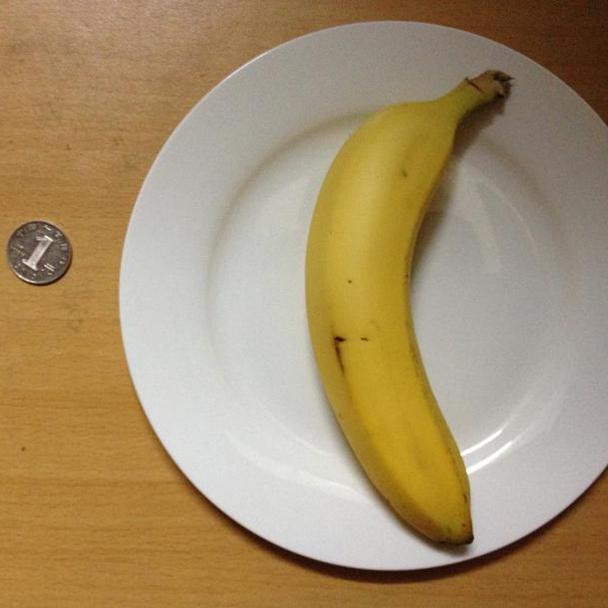banana: (313, 73, 505, 546)
